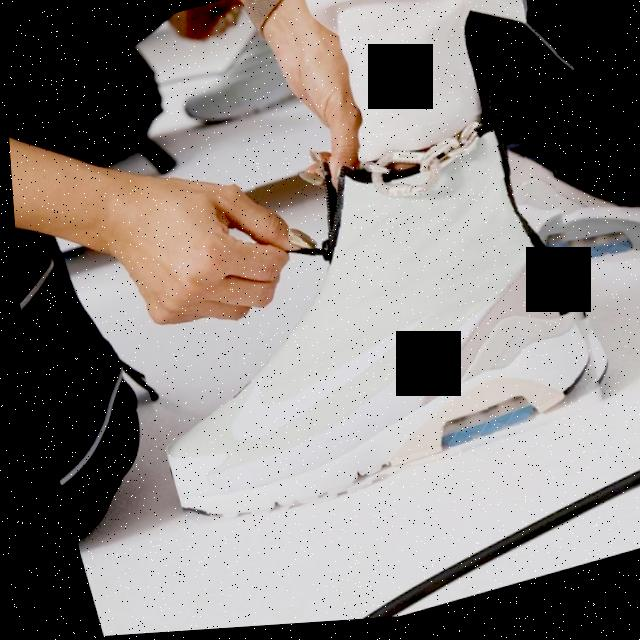shoe: (92, 101, 624, 543)
